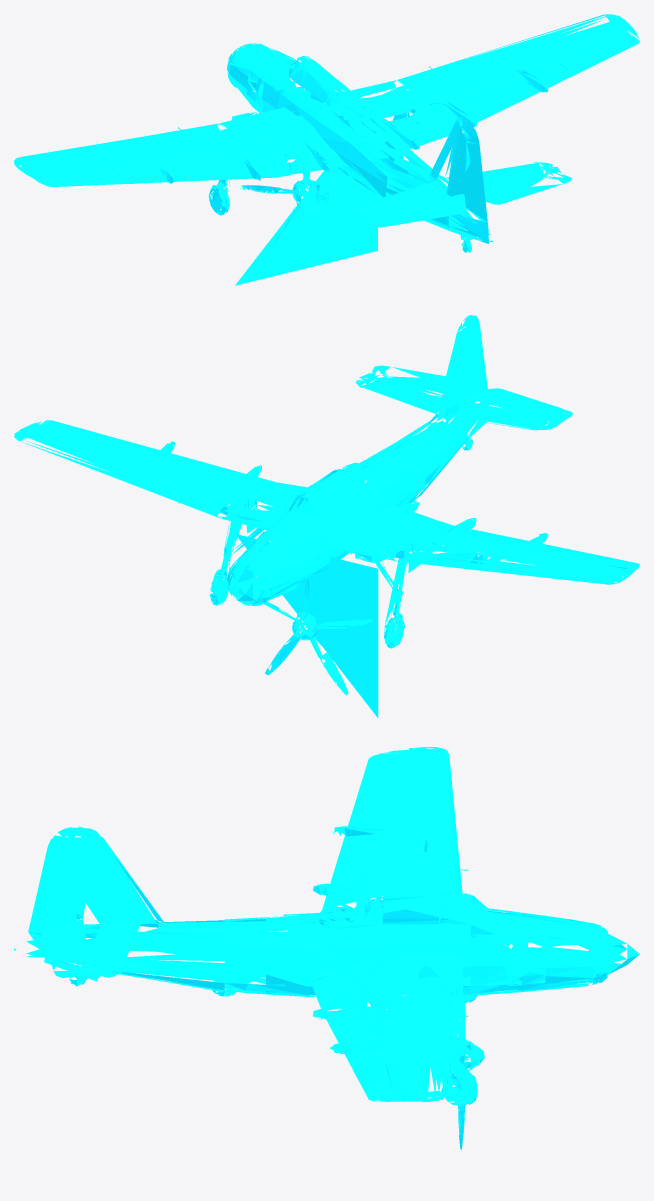
The model's file is PBAD208.glb.
3 renders of one model, top to bottom at view 1: azimuth 30°, elevation 25°; view 2: azimuth 150°, elevation 25°; view 3: azimuth 270°, elevation 25°, orthographic. The views are drawn at different scales.
Parts seen in each view (by area): view 1: misc; view 2: misc; view 3: misc.
Boxes of the visible parts, x1,y1,x2,y2 form: misc: [14, 14, 639, 285]; misc: [14, 315, 639, 717]; misc: [14, 747, 639, 1150].
Bounding box in the file's own units: 1.22 × 0.5126 × 0.9123.
